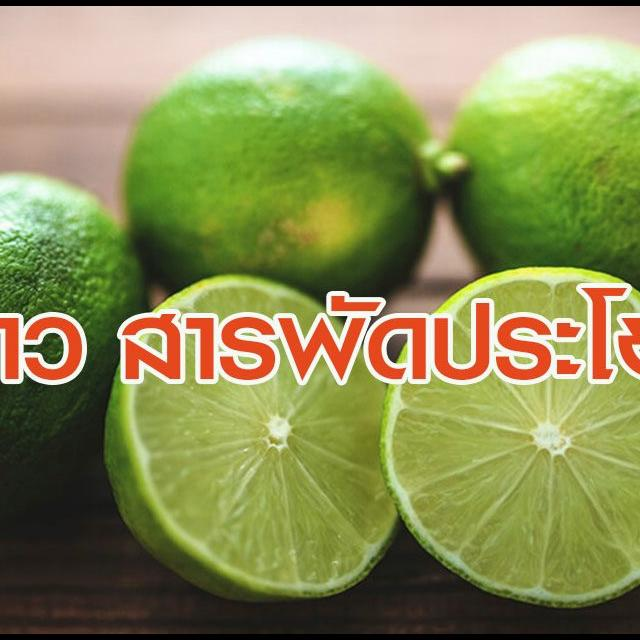lime: (116, 19, 444, 326), (431, 27, 640, 335), (0, 163, 149, 532)
